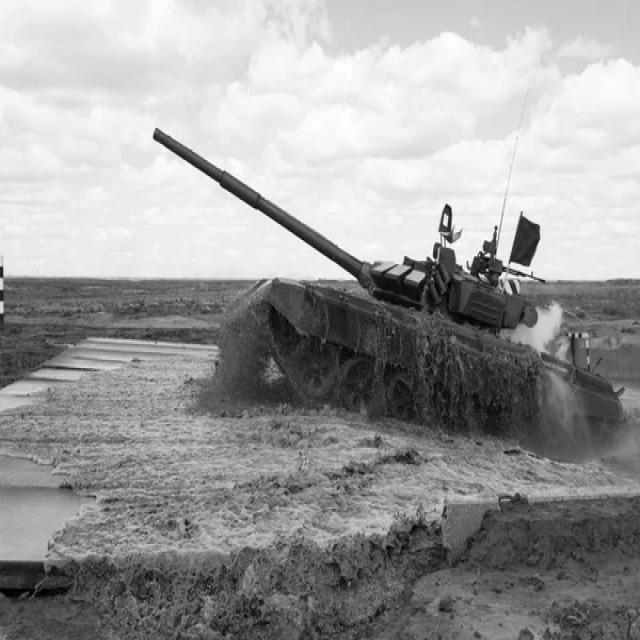Tank: (151, 124, 638, 461)
